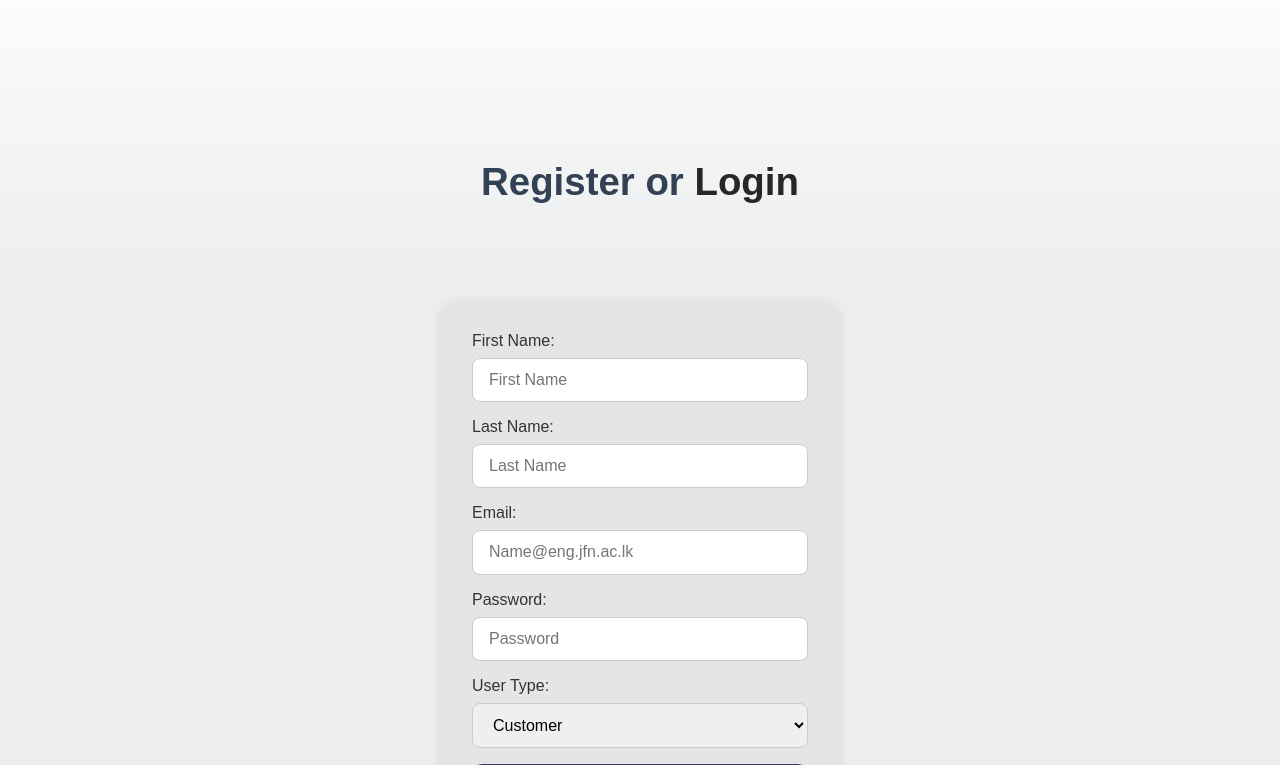
Test: Auth Component › handles registration error
The image size is (1280, 765).
In the field labelled "First Name:": [640, 380] box [472, 358, 808, 402], type "John"
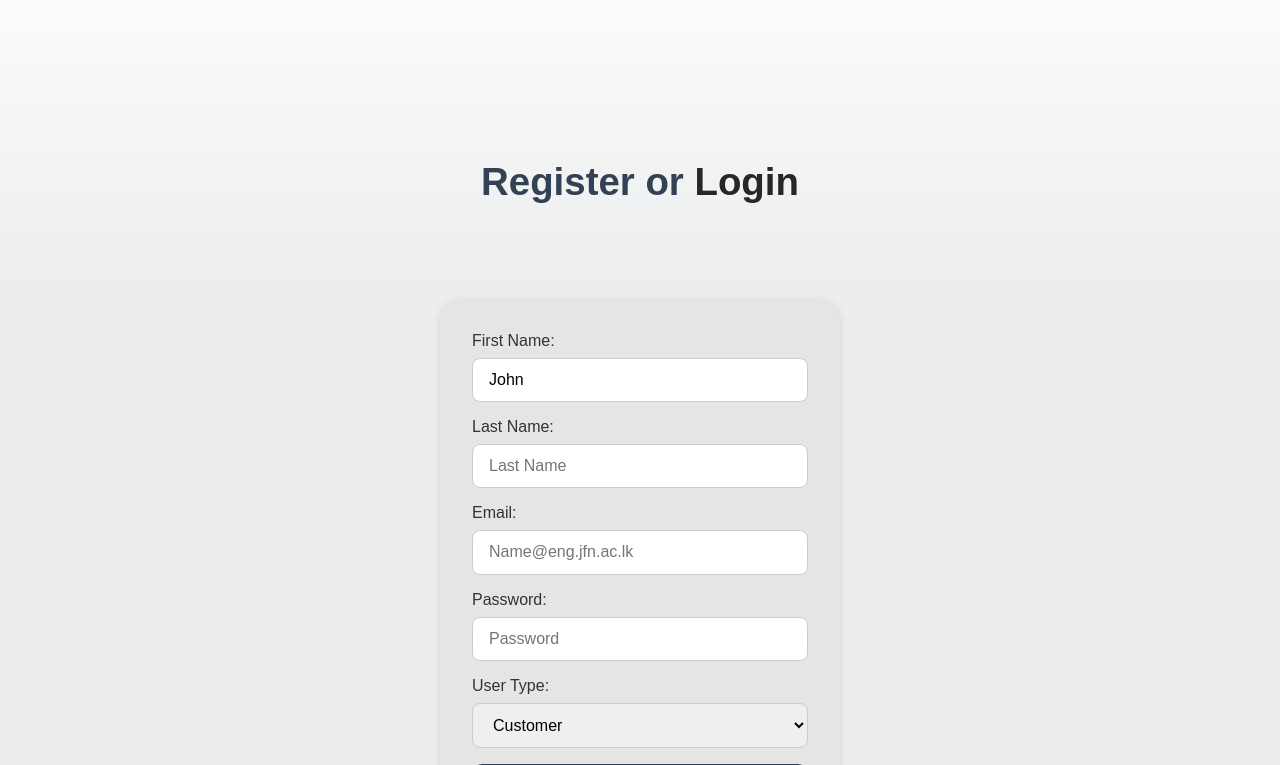
In the field labelled "Last Name:": [640, 466] box [472, 444, 808, 488], type "Doe"
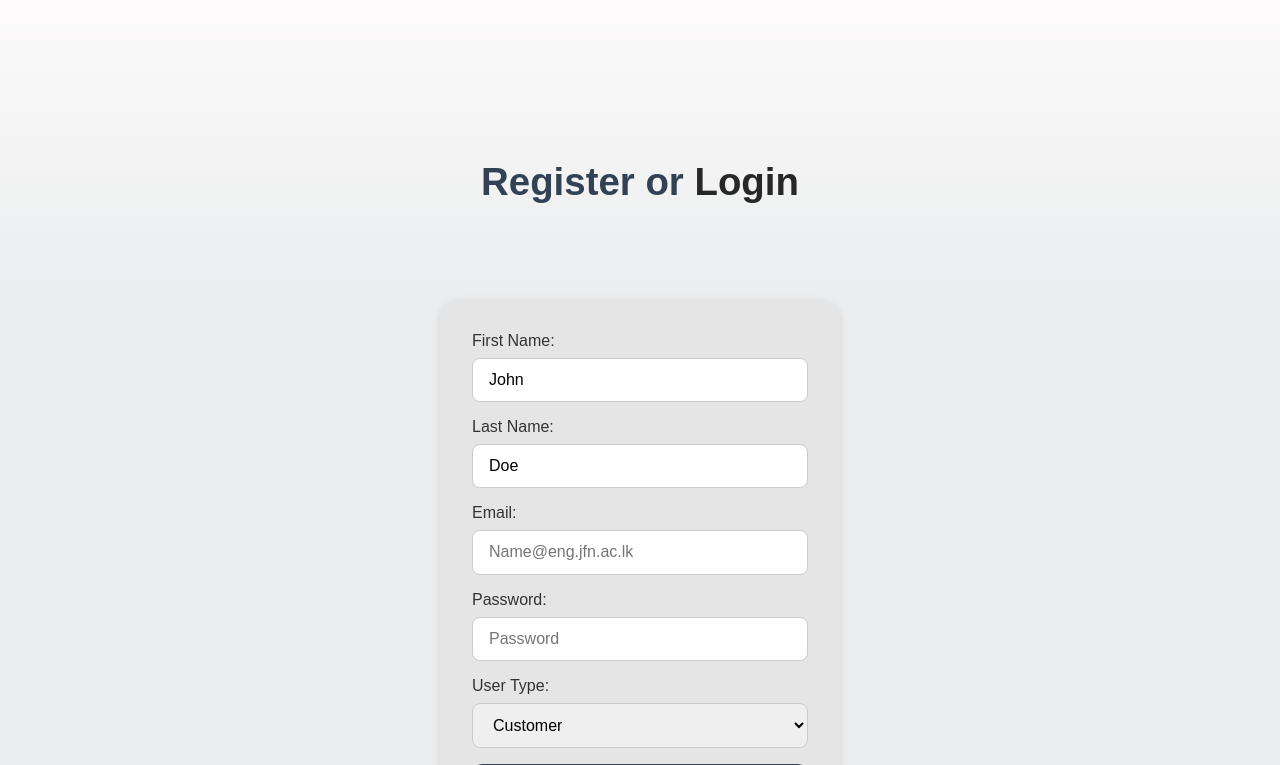
In the field labelled "Email:": [640, 553] box [472, 530, 808, 575], type "john.doe@example.com"
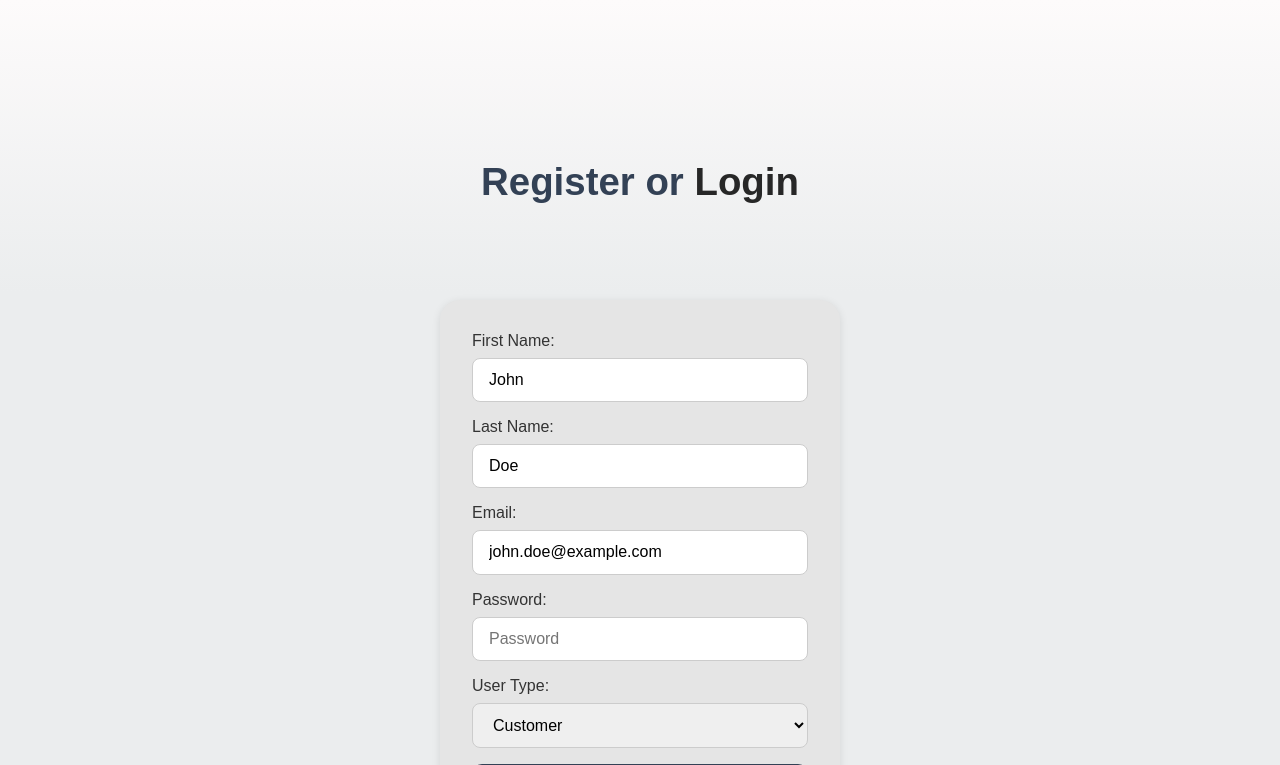
In the password field labelled "Password:": [640, 639] box [472, 617, 808, 661], type "password"
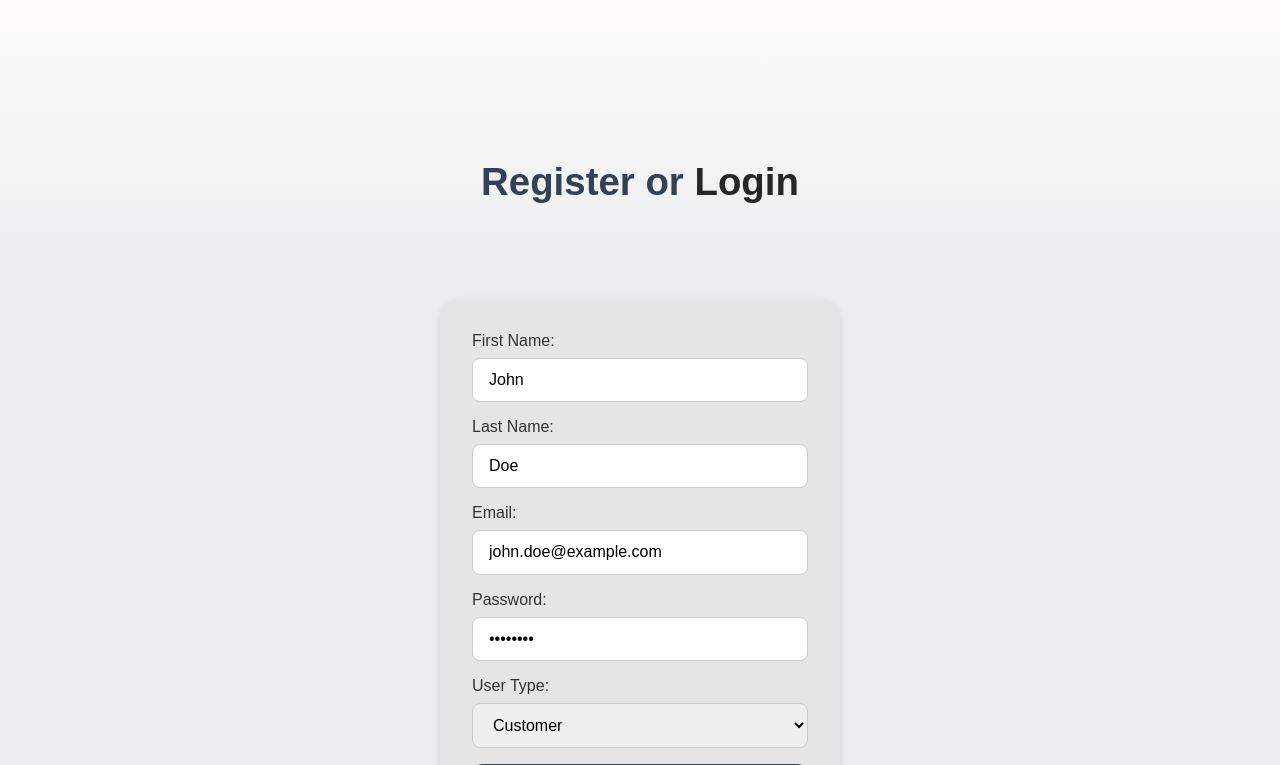
Select "Customer" in the dropdown labelled "User Type:": [640, 726] box [472, 703, 808, 748]
(page scrolled)
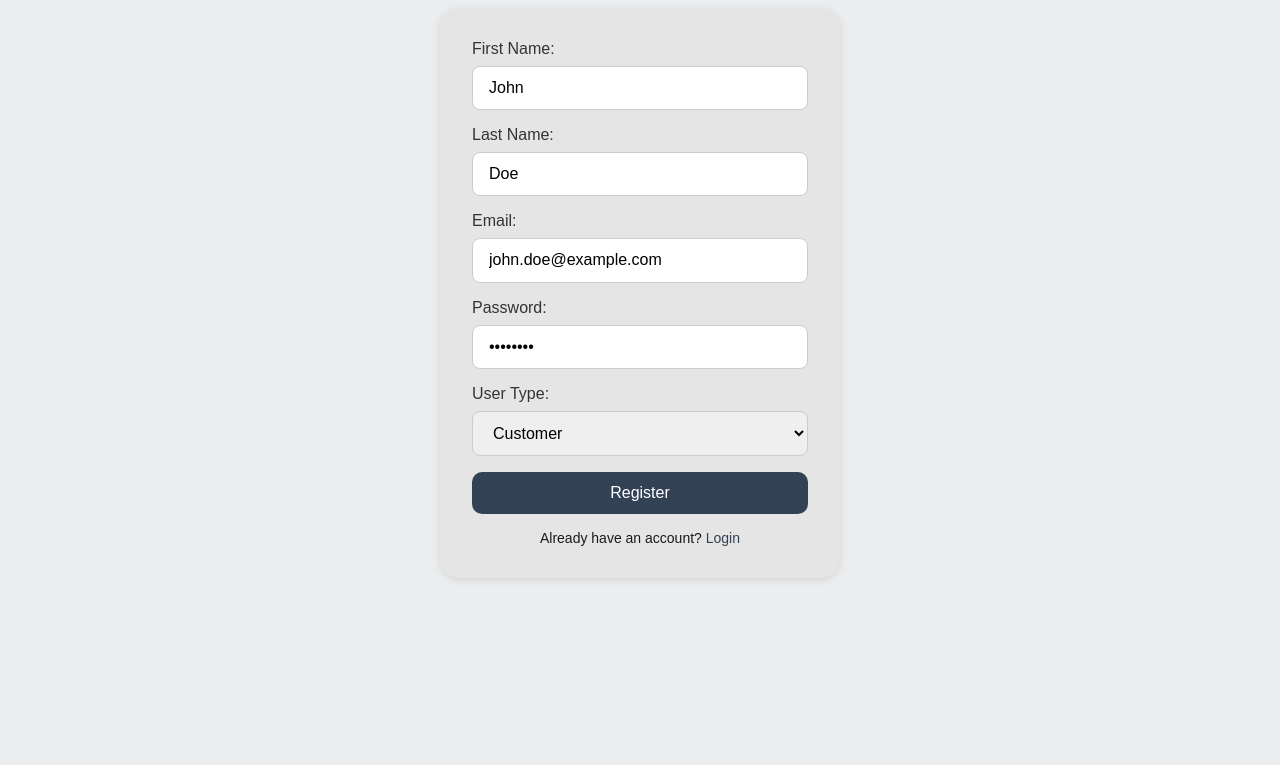
Click the button "Register": [640, 493] box [472, 472, 808, 514]
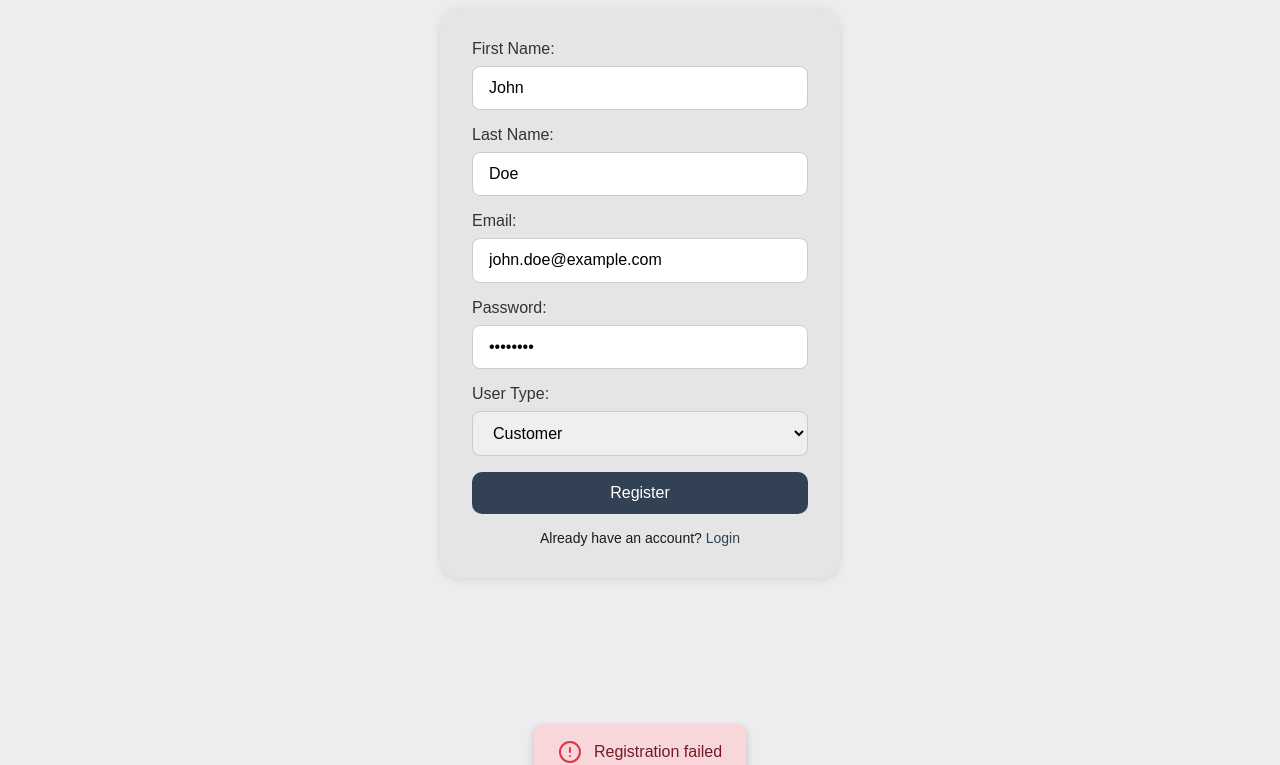
Expected: the text "Registration failed" is shown, [594, 743, 722, 761]
